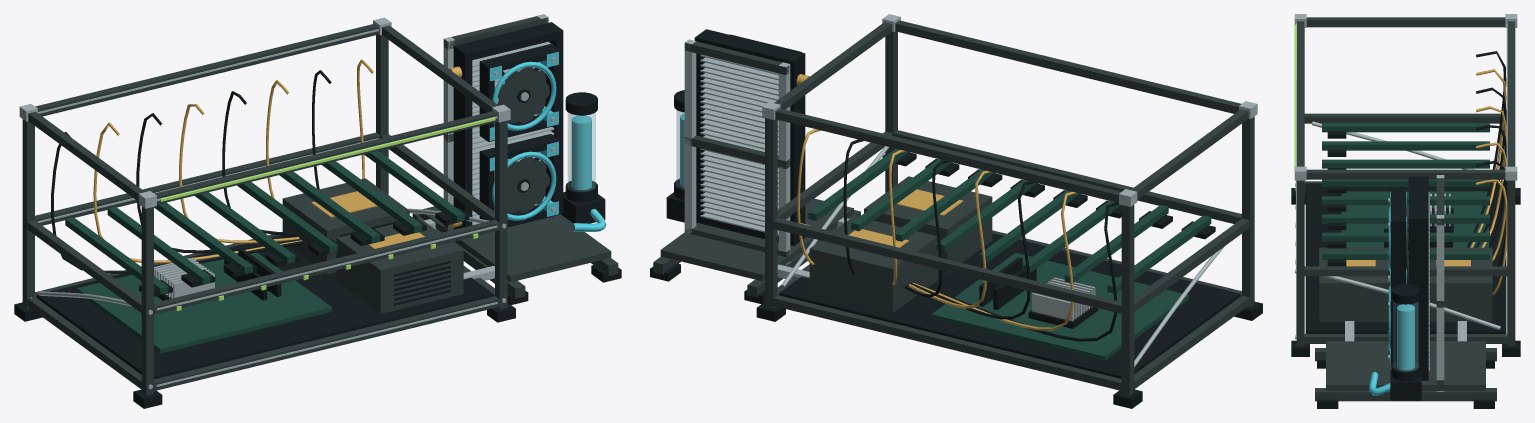
Rendered from rig-8-frame-liquid.glb.
3 renders of one model, left to right at view 1: azimuth 30°, elevation 25°; view 2: azimuth 150°, elevation 25°; view 3: azimuth 270°, elevation 25°, orthographic. The views are drawn at different scales.
Visible parts, largest first — view 1: Anodized graphite (×4), Rubber and ABS (×5), Circuit board, Brushed aluminium (×2), Coolant blue (×3), cooling-liquid, rig-8-frame-liquid, Contacts, slot-cable-1, slot-cable-2, slot-cable-3, slot-cable-4 (+1 smaller); view 2: Anodized graphite (×2), Rubber and ABS (×3), Circuit board, Brushed aluminium (×2), Contacts, slot-cable-1, slot-cable-2, slot-cable-3, slot-cable-4, cooling-liquid, slot-cable-5; view 3: Anodized graphite (×2), Rubber and ABS (×5), Circuit board, Brushed aluminium (×2), cooling-liquid, Coolant blue (×2), slot-cable-1, slot-cable-2, slot-cable-3, slot-cable-8, Contacts, slot-cable-4 (+4 smaller).
Boxes of the visible parts, x1,y1,x2,y2 form: Anodized graphite (×4): [22, 16, 618, 395]; Rubber and ABS (×5): [14, 22, 621, 408]; Circuit board: [65, 151, 464, 353]; Brushed aluminium (×2): [19, 14, 554, 389]; Coolant blue (×3): [489, 51, 606, 231]; cooling-liquid: [568, 112, 595, 191]; rig-8-frame-liquid: [160, 117, 495, 201]; Contacts: [311, 191, 424, 248]; slot-cable-1: [51, 132, 303, 273]; slot-cable-2: [93, 122, 301, 263]; slot-cable-3: [136, 113, 300, 253]; slot-cable-4: [179, 104, 299, 243]; Anodized graphite (×2): [653, 20, 1254, 395]; Rubber and ABS (×3): [650, 29, 1262, 408]; Circuit board: [808, 148, 1211, 360]; Brushed aluminium (×2): [684, 14, 1257, 367]; Contacts: [848, 189, 963, 247]; slot-cable-1: [913, 202, 1118, 341]; slot-cable-2: [912, 191, 1076, 330]; slot-cable-3: [911, 181, 1034, 319]; slot-cable-4: [909, 170, 991, 308]; cooling-liquid: [676, 110, 684, 188]; slot-cable-5: [904, 160, 948, 297]; Anodized graphite (×2): [1296, 17, 1515, 401]; Rubber and ABS (×5): [1291, 131, 1520, 408]; Circuit board: [1322, 123, 1489, 266]; Brushed aluminium (×2): [1294, 14, 1517, 391]; cooling-liquid: [1393, 302, 1418, 371]; Coolant blue (×2): [1369, 192, 1414, 395]; slot-cable-1: [1467, 51, 1506, 247]; slot-cable-2: [1470, 69, 1506, 247]; slot-cable-3: [1475, 87, 1506, 247]; slot-cable-8: [1476, 179, 1507, 295]; Contacts: [1346, 260, 1470, 266]; slot-cable-4: [1476, 106, 1506, 247].
Size of the model in its own units: 8.43 by 3.32 by 3.66.
